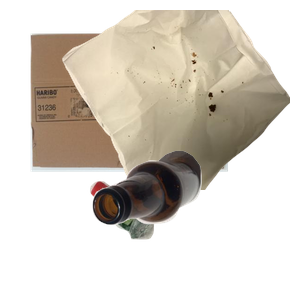cardboard: (28, 31, 249, 195)
glass: (90, 148, 300, 300)
plastic: (87, 178, 234, 300)
trash: (60, 10, 300, 190)
